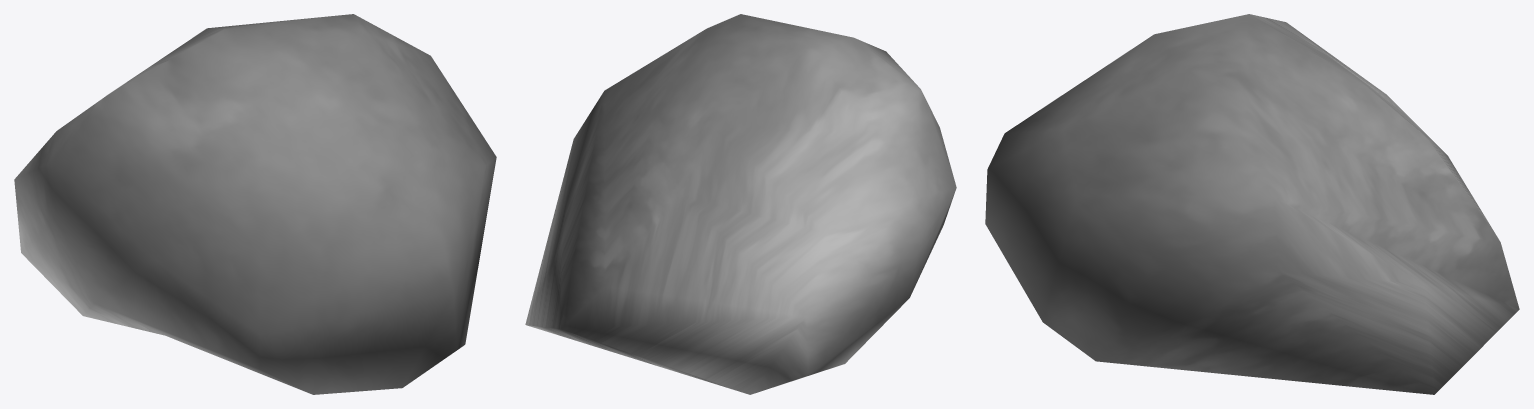
The model's file is SM_Pebble_04a.fbx.
The picture shows the model from 3 angles, left to right: view 1: azimuth 30°, elevation 25°; view 2: azimuth 150°, elevation 25°; view 3: azimuth 270°, elevation 25°; orthographic projection. The views are drawn at different scales.
Parts seen in each view (by area): view 1: SM_Pebble_04a_LOD0; view 2: SM_Pebble_04a_LOD0; view 3: SM_Pebble_04a_LOD0.
Boxes of the visible parts, <box> form: SM_Pebble_04a_LOD0: <box>14,14,496,394</box>; SM_Pebble_04a_LOD0: <box>525,14,956,394</box>; SM_Pebble_04a_LOD0: <box>985,14,1519,394</box>.
Size of the model in its own units: 28.1 by 34.62 by 20.33.
